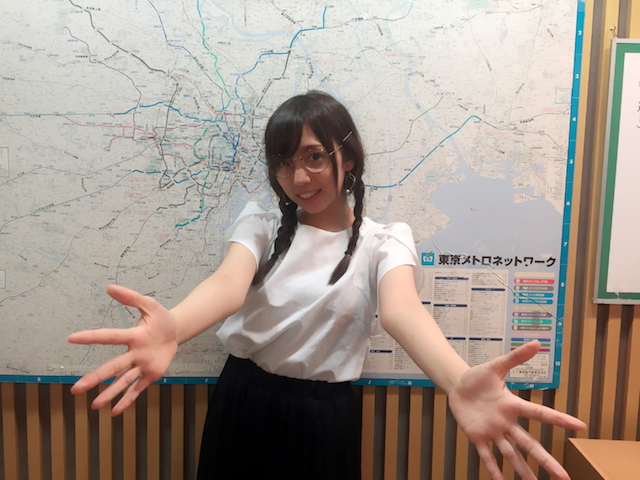face: (264, 126, 353, 215)
hand: (446, 340, 587, 480), (65, 284, 179, 416)
